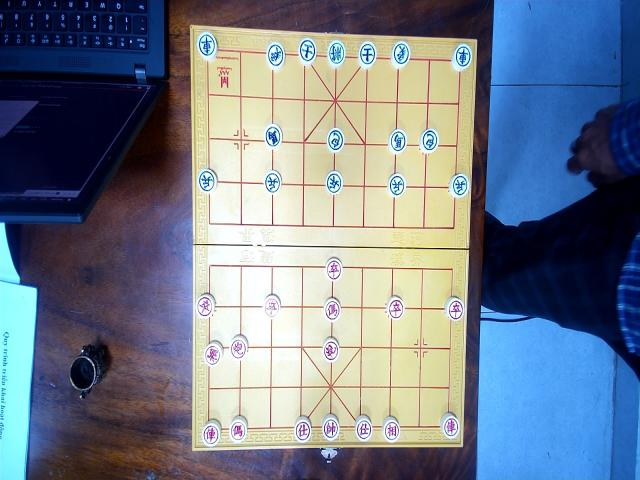piece: (448, 171, 470, 199), (450, 42, 472, 70), (197, 31, 217, 60), (439, 411, 459, 439), (202, 419, 222, 446), (202, 341, 222, 368), (228, 416, 248, 443), (390, 41, 410, 68), (326, 40, 346, 67), (298, 36, 317, 64), (382, 415, 401, 442), (266, 41, 285, 68), (444, 296, 464, 321), (418, 128, 438, 153), (263, 123, 282, 149), (354, 415, 372, 442), (294, 416, 312, 443), (358, 41, 376, 68), (196, 292, 214, 318), (322, 337, 340, 363), (230, 334, 248, 360), (387, 171, 405, 197), (322, 414, 339, 441), (388, 128, 406, 153), (198, 168, 216, 193), (324, 170, 342, 195), (324, 257, 342, 281), (386, 295, 404, 319), (326, 127, 344, 151), (324, 297, 341, 322), (263, 294, 280, 318), (264, 170, 280, 193)
